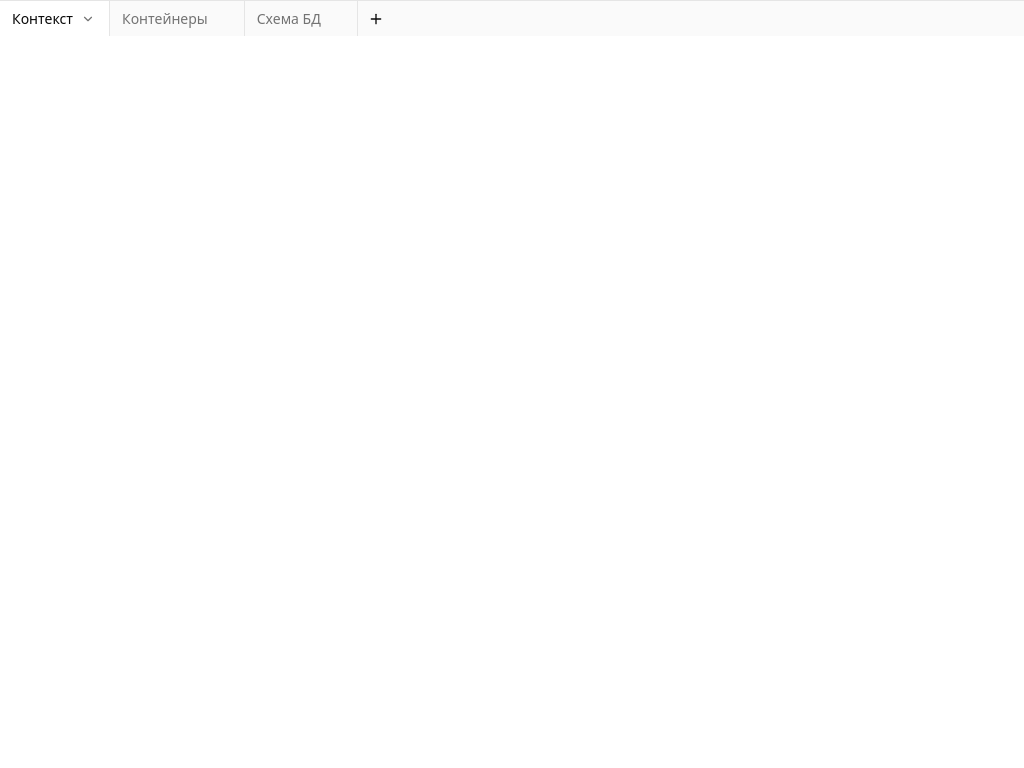
Test case: PageTabs › opens the menu of a page with a right click
Right-click the tab "Схема БД" at [301, 18], box [245,1,358,36]
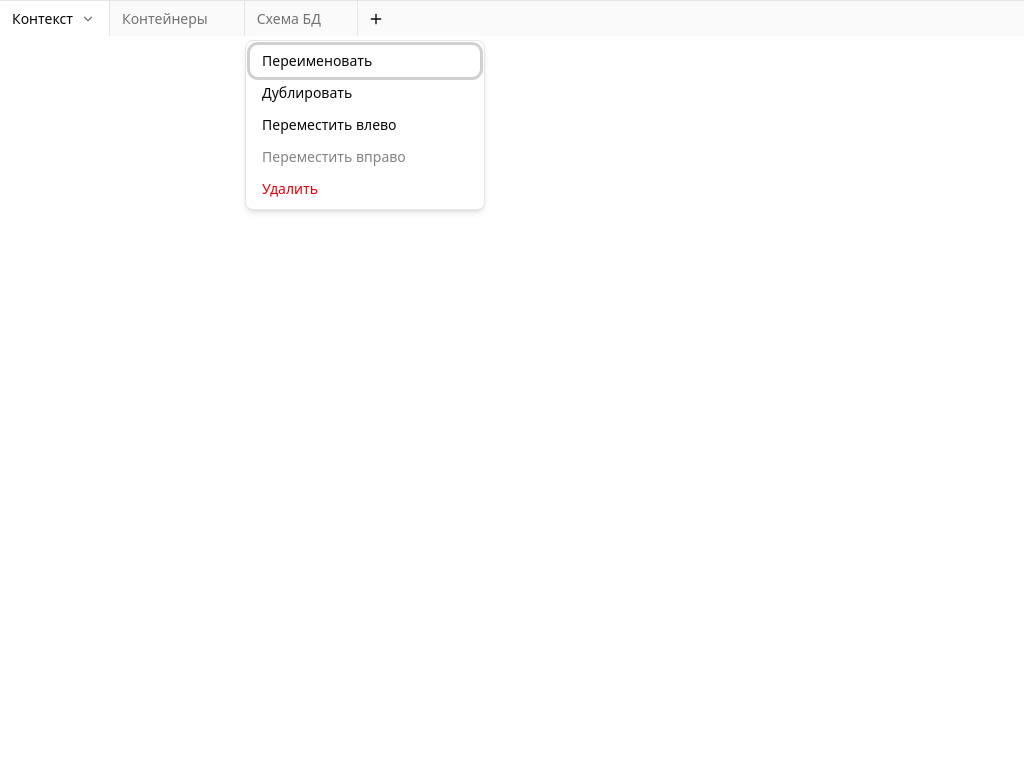
Expected: the menu item "Переместить вправо" is disabled, [250,141,480,173]
Expected: the menu item "Переместить влево" is enabled, [250,109,480,141]
